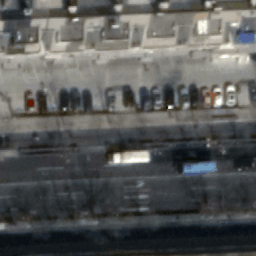car: (107, 150, 151, 163), (182, 160, 219, 173), (123, 83, 135, 107), (23, 90, 35, 112), (58, 88, 70, 110), (82, 86, 92, 112), (105, 85, 115, 111), (139, 84, 149, 110), (151, 84, 161, 110), (165, 84, 175, 110), (179, 83, 189, 109), (226, 81, 236, 107), (213, 82, 223, 108), (202, 83, 212, 109), (191, 83, 201, 109), (38, 90, 47, 112), (249, 81, 256, 103)
